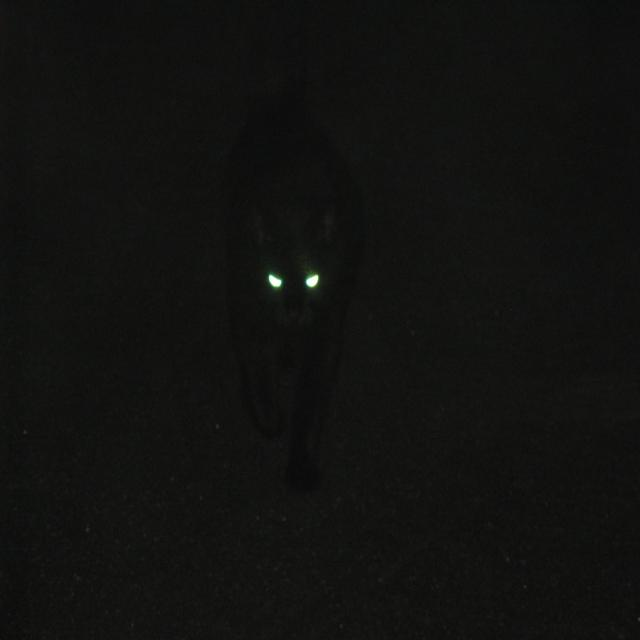Cat: (196, 60, 366, 526)
